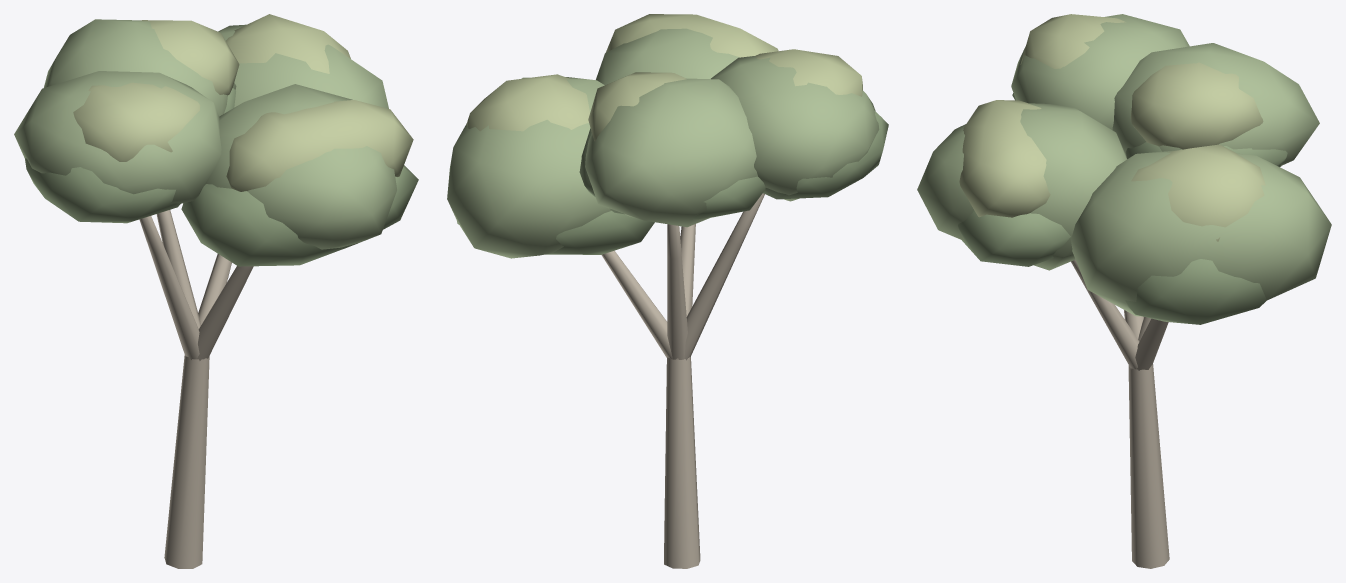
File: tree_eucalyptus_7.glb
3 renders of one model, left to right at view 1: azimuth 30°, elevation 25°; view 2: azimuth 150°, elevation 25°; view 3: azimuth 270°, elevation 25°, orthographic. The views are drawn at different scales.
Parts seen in each view (by area): view 1: tree_eucalyptus_7.glb; view 2: tree_eucalyptus_7.glb; view 3: tree_eucalyptus_7.glb.
Boxes of the visible parts, x1,y1,x2,y2 form: tree_eucalyptus_7.glb: (14,14,418,568); tree_eucalyptus_7.glb: (447,14,888,568); tree_eucalyptus_7.glb: (917,14,1331,568).
Bounding box in the file's own units: 5.17 × 6.73 × 5.05.
